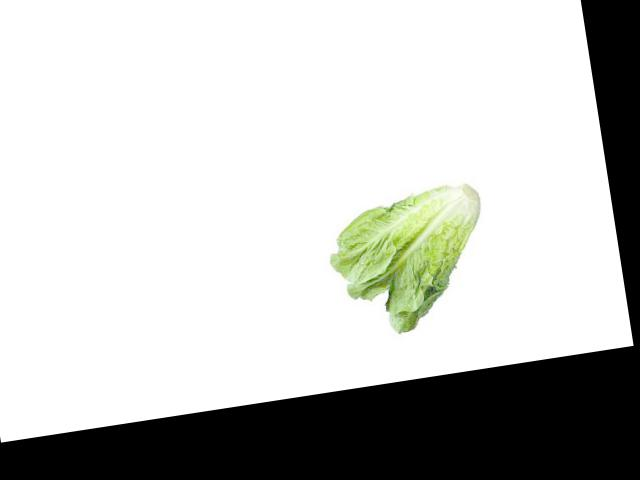lettuce: (328, 184, 494, 350)
